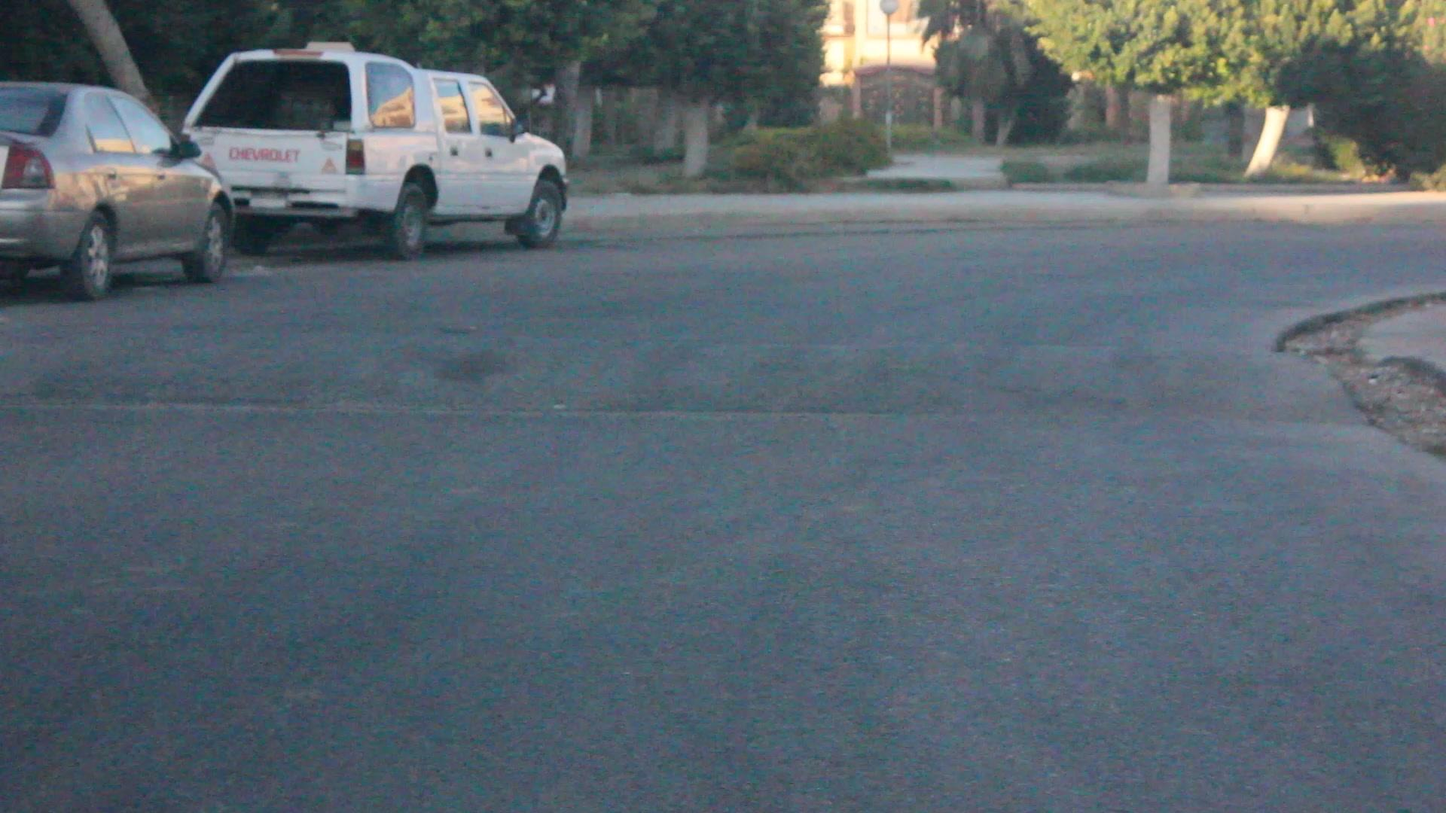Bump: (11, 324, 1324, 423)
